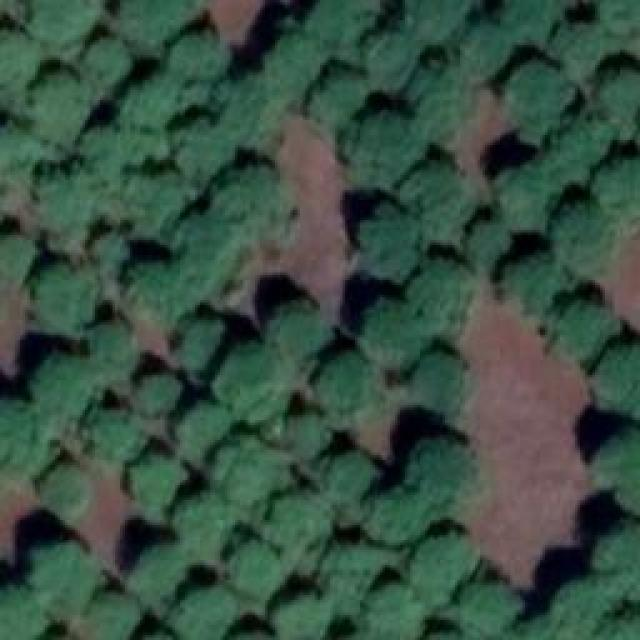Tree: (115, 242, 190, 330), (405, 438, 485, 513), (35, 165, 108, 240), (28, 263, 98, 336), (218, 348, 288, 421), (505, 63, 578, 133), (345, 117, 420, 185), (407, 168, 475, 241), (410, 263, 475, 336), (265, 35, 328, 110), (233, 163, 296, 236), (353, 205, 416, 278), (33, 348, 98, 418), (500, 162, 563, 230), (180, 490, 245, 555), (360, 303, 420, 373), (183, 205, 238, 280), (272, 303, 330, 373), (180, 115, 238, 183), (552, 110, 610, 178), (415, 535, 480, 595), (315, 453, 378, 513), (220, 440, 283, 500), (265, 498, 325, 561), (30, 73, 88, 138), (315, 358, 373, 423), (548, 302, 613, 360), (95, 110, 163, 165), (452, 25, 510, 85), (410, 353, 468, 413), (325, 545, 383, 605), (463, 582, 523, 640), (413, 80, 468, 143), (135, 543, 190, 606), (560, 205, 618, 263), (557, 575, 615, 633), (38, 543, 101, 596), (123, 170, 178, 230), (0, 585, 58, 640), (180, 585, 238, 640), (507, 255, 565, 310), (370, 585, 428, 640), (590, 345, 640, 408), (592, 520, 640, 585), (32, 0, 100, 45), (362, 500, 430, 545), (175, 30, 230, 85), (130, 460, 185, 515), (85, 413, 143, 463), (595, 425, 640, 488), (178, 315, 228, 370), (230, 545, 280, 600), (497, 0, 562, 42), (262, 418, 330, 458), (85, 35, 135, 88), (368, 35, 418, 88), (275, 592, 330, 640), (412, 0, 470, 45), (0, 400, 42, 460), (315, 0, 375, 42), (93, 590, 143, 640), (48, 465, 93, 520), (125, 375, 185, 415), (90, 320, 135, 373), (178, 410, 231, 455), (313, 78, 368, 121), (0, 125, 40, 183), (600, 68, 640, 123), (123, 0, 196, 30), (145, 70, 188, 120), (597, 0, 640, 50), (0, 30, 38, 85), (607, 152, 640, 215), (240, 110, 285, 153), (555, 25, 600, 68), (0, 230, 40, 278), (468, 225, 508, 273), (503, 620, 568, 640)
